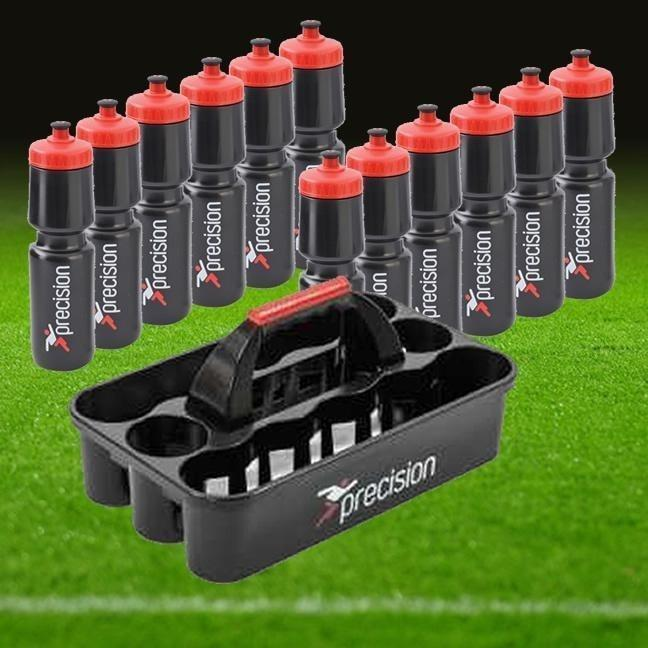gym bottle: (25, 119, 96, 371), (74, 100, 143, 351), (549, 49, 617, 300), (230, 38, 296, 291), (126, 72, 192, 325), (180, 60, 247, 306), (501, 66, 566, 317), (455, 86, 515, 337), (397, 104, 465, 322), (350, 127, 411, 297), (280, 19, 345, 154), (297, 150, 365, 279)
